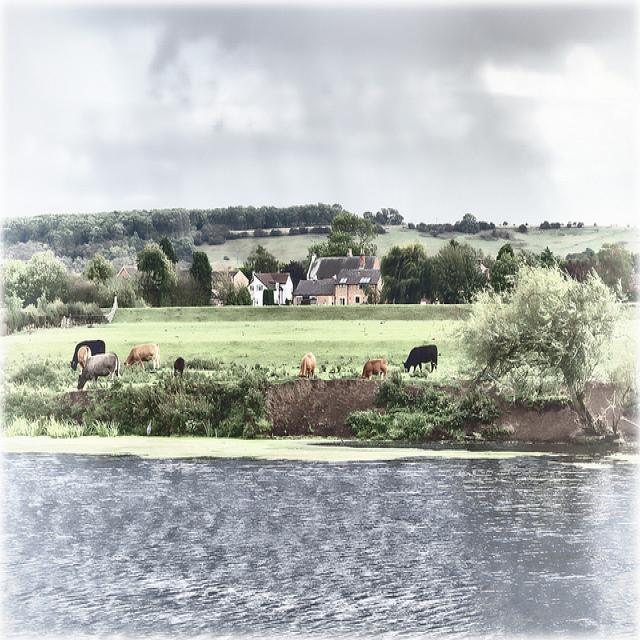cow: (76, 351, 120, 388), (123, 343, 159, 371), (401, 343, 437, 371), (71, 338, 103, 366), (361, 359, 386, 377), (298, 351, 314, 377), (77, 344, 90, 368), (172, 355, 183, 376)
